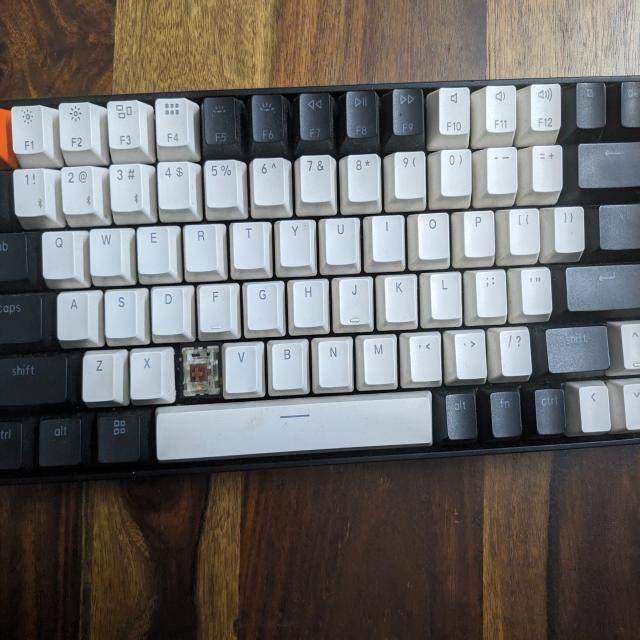C: (180, 342, 222, 398)
